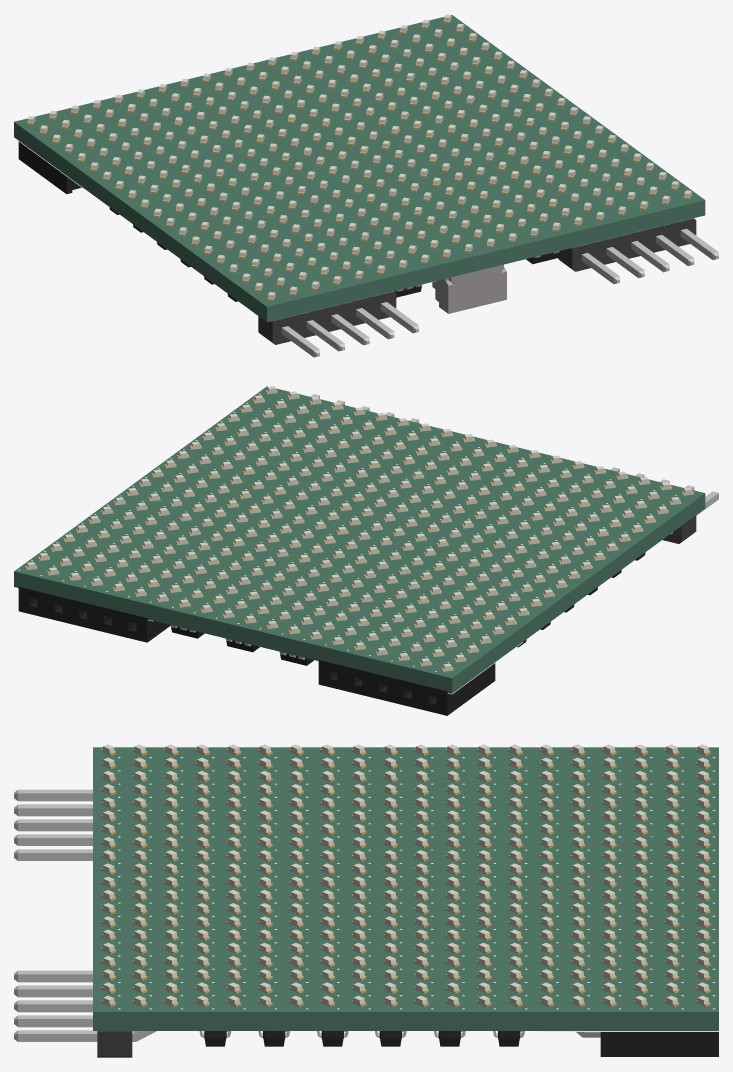
The model's file is panel_rp2354_20x20-v0.4.0.glb.
The picture shows the model from 3 angles, top to bottom: view 1: azimuth 30°, elevation 25°; view 2: azimuth 150°, elevation 25°; view 3: azimuth 270°, elevation 25°; orthographic projection. The views are drawn at different scales.
Visible parts, largest first — view 1: =>[0:1:1:34], insulation_001 (×2), =>[0:1:1:13], =>[0:1:1:31]; view 2: =>[0:1:1:34], =>[0:1:1:31] (×2), =>[0:1:1:32]; view 3: =>[0:1:1:34], =>[0:1:1:31], pin_005 (×2), pin_001 (×2), pin_002 (×2), pin_003 (×2), pin_004 (×2), =>[0:1:1:32], insulation_001.
Part boxes in pixels (x1,y1,x2,y2): =>[0:1:1:34]: (14,15,705,322); insulation_001 (×2): (258,218,696,344); =>[0:1:1:13]: (432,264,506,313); =>[0:1:1:31]: (18,141,81,194); =>[0:1:1:34]: (14,386,705,693); =>[0:1:1:31] (×2): (18,587,495,715); =>[0:1:1:32]: (18,393,676,671); =>[0:1:1:34]: (93,747,718,1030); =>[0:1:1:31]: (576,1032,718,1056); pin_005 (×2): (14,849,156,1041); pin_001 (×2): (14,789,92,982); pin_002 (×2): (14,804,92,997); pin_003 (×2): (14,819,92,1012); pin_004 (×2): (14,834,92,1027); =>[0:1:1:32]: (118,757,715,1009); insulation_001: (97,1031,132,1057).
Size of the model in its own units: 0.045 by 0.00643 by 0.0507.
